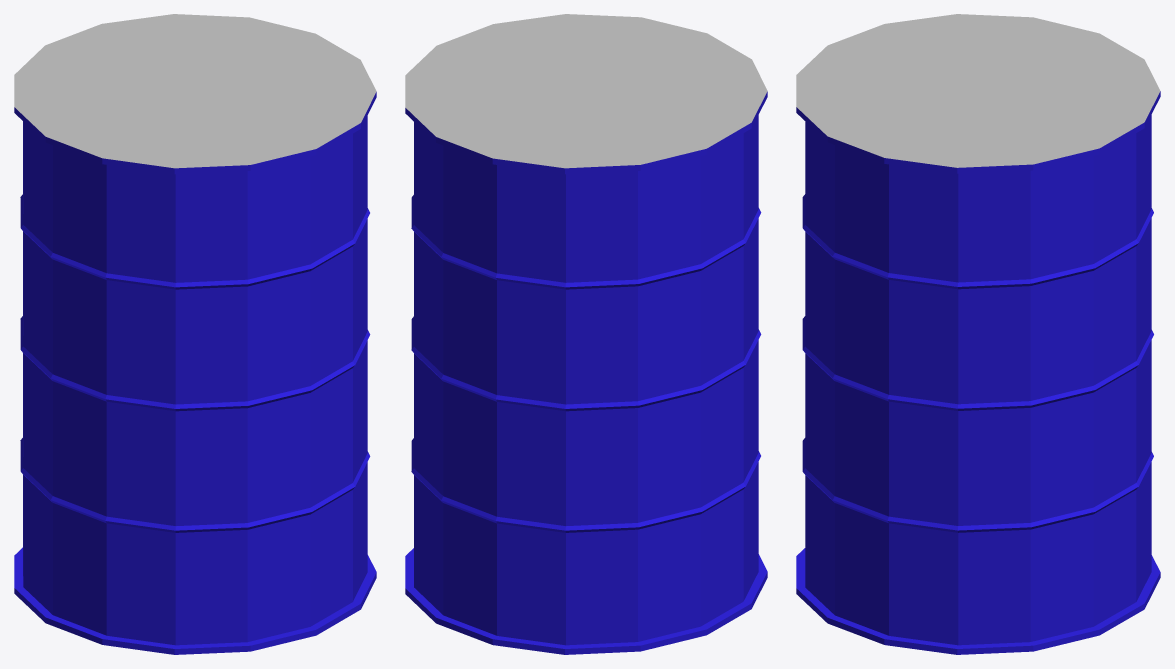
The model's file is MESH_Folgorazione_Barile.fbx.
3 views of the same model, side by side, from view 1: azimuth 30°, elevation 25°; view 2: azimuth 150°, elevation 25°; view 3: azimuth 270°, elevation 25° (orthographic).
Parts seen in each view (by area): view 1: Barile; view 2: Barile; view 3: Barile.
Part boxes in pixels (x1=…): Barile: x1=14, y1=14, x2=376, y2=654; Barile: x1=405, y1=14, x2=767, y2=654; Barile: x1=796, y1=14, x2=1160, y2=654.
Size of the model in its own units: 60.98 by 90 by 60.96.
